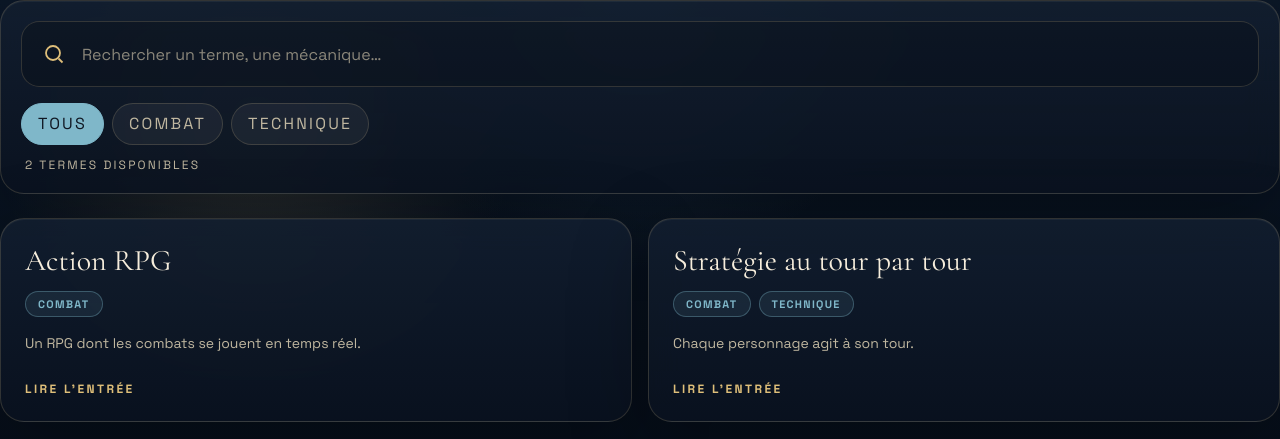
Test: GlossaryIndex › combine le filtre par tag avec la recherche et cherche dans le nom des tags
Click the button "Technique" at (300,124), box [231,103,369,145]
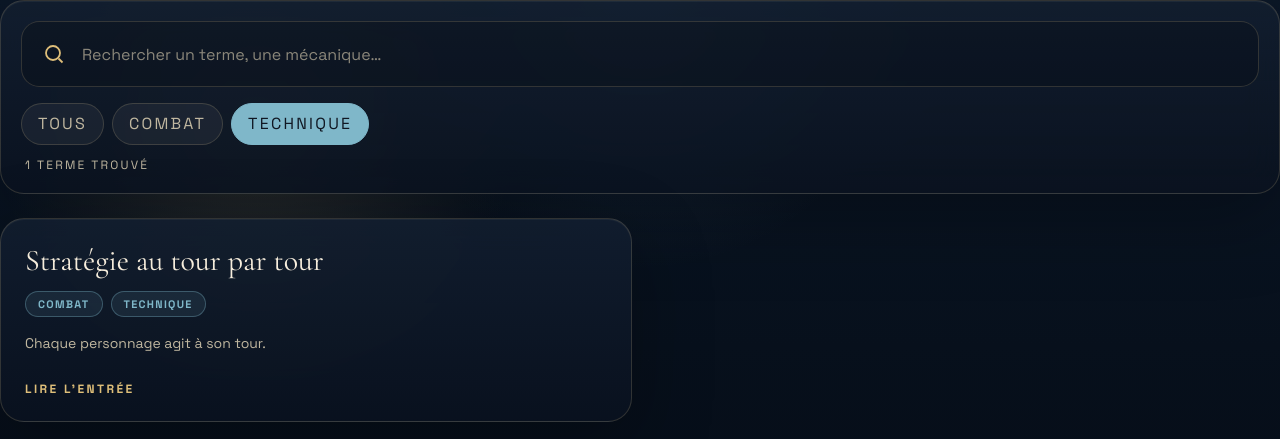
Check: the heading "Stratégie au tour par tour" is shown, box [25,242,324,279]
Check: the link "Action RPG" is gone
Click the button "Tous" at (62,124), box [21,103,104,145]
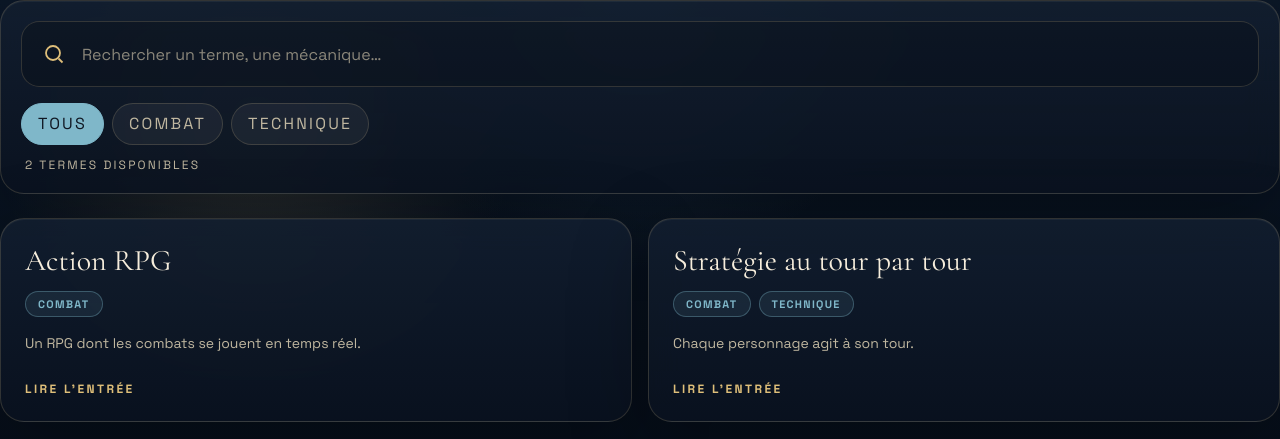
Type "technique" into the search field at (660,54), box [82,22,1238,86]
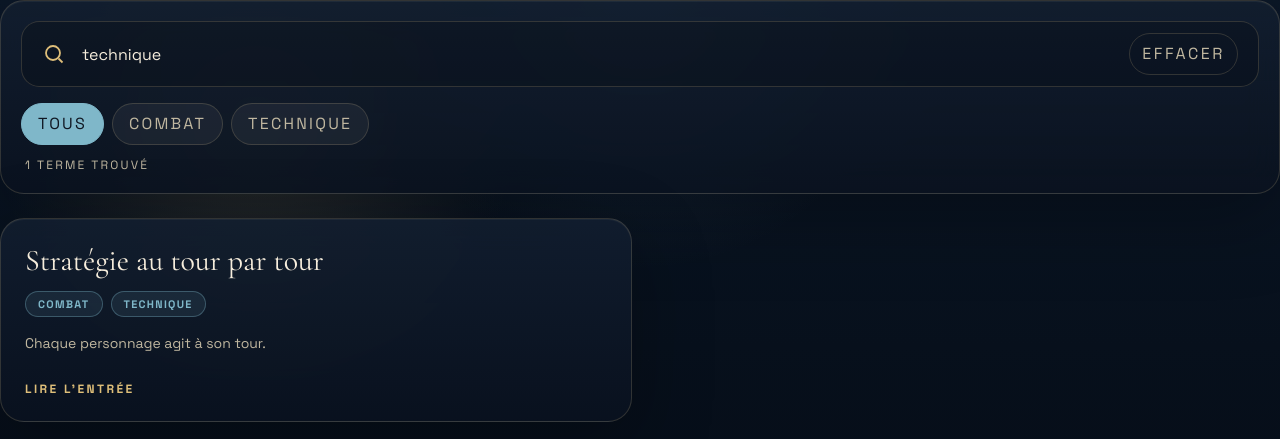
Check: the heading "Stratégie au tour par tour" is shown, box [25,242,324,279]
Check: the link "Action RPG" is gone
